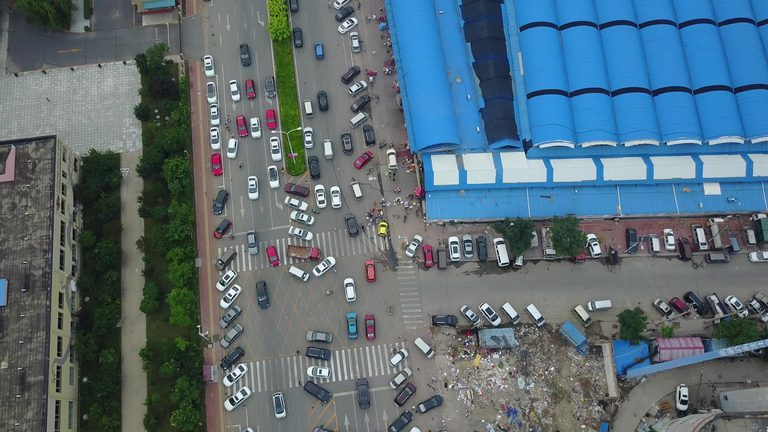bicycle: (325, 290, 334, 295), (371, 160, 379, 165), (392, 214, 400, 219), (384, 52, 392, 56), (376, 164, 380, 172), (190, 81, 193, 89), (239, 162, 242, 170), (190, 64, 192, 73)
car: (224, 386, 252, 411), (304, 381, 332, 403), (223, 363, 248, 387), (683, 292, 708, 316), (220, 346, 244, 369), (220, 324, 243, 348), (218, 305, 242, 328), (478, 302, 501, 326), (724, 295, 748, 318), (388, 410, 413, 432), (394, 382, 416, 407), (389, 366, 412, 389), (220, 284, 242, 308), (652, 298, 676, 320), (747, 298, 768, 322), (417, 395, 443, 414), (460, 305, 482, 327), (312, 256, 336, 276), (216, 269, 237, 291), (212, 189, 229, 214), (670, 297, 691, 317), (357, 377, 370, 409), (405, 234, 423, 257), (675, 384, 690, 411), (586, 233, 602, 258), (284, 182, 310, 197), (284, 196, 308, 212), (213, 218, 232, 238), (341, 65, 361, 84), (354, 150, 374, 169), (388, 348, 408, 367), (305, 346, 332, 360), (288, 226, 313, 241), (272, 392, 286, 418), (256, 280, 269, 308), (447, 236, 461, 261), (344, 213, 359, 236), (351, 94, 370, 112), (625, 228, 638, 254), (340, 130, 354, 154), (290, 211, 314, 225), (306, 331, 333, 343), (346, 312, 358, 339), (431, 314, 458, 326), (338, 17, 358, 33), (348, 80, 368, 96), (362, 124, 376, 146), (306, 366, 331, 378), (476, 236, 488, 261), (307, 156, 320, 179), (266, 246, 280, 267), (246, 230, 258, 254), (344, 278, 356, 302), (314, 184, 326, 208), (270, 137, 282, 161), (335, 6, 354, 21), (350, 32, 364, 52), (240, 43, 252, 66), (365, 314, 376, 339), (754, 292, 768, 311), (247, 176, 258, 200), (229, 80, 241, 102), (330, 186, 342, 208), (268, 166, 280, 188), (236, 115, 248, 137), (662, 228, 674, 250), (462, 234, 473, 258), (210, 127, 221, 150), (705, 253, 730, 263), (365, 260, 376, 282), (386, 149, 398, 169), (748, 250, 768, 262), (206, 82, 217, 103), (303, 127, 314, 148), (250, 117, 261, 138), (265, 76, 276, 97), (212, 153, 222, 176), (423, 244, 433, 267), (226, 139, 238, 158), (210, 104, 220, 126), (204, 55, 214, 77), (317, 90, 328, 110), (245, 79, 256, 99), (266, 110, 277, 129), (293, 27, 302, 47), (314, 42, 324, 59), (334, 0, 350, 10), (378, 222, 388, 236), (289, 0, 299, 11), (381, 203, 385, 207)
motor: (379, 142, 387, 148), (366, 168, 374, 174), (311, 208, 320, 213), (378, 138, 385, 144), (379, 197, 385, 204), (225, 124, 230, 132), (388, 306, 392, 316), (375, 95, 379, 104), (392, 188, 401, 192), (360, 223, 364, 232), (225, 116, 230, 123), (380, 34, 387, 39), (403, 214, 407, 222), (230, 230, 233, 239), (358, 4, 360, 10)
pedestrian: (225, 124, 230, 130), (372, 50, 376, 57), (230, 133, 234, 140), (373, 14, 376, 22), (296, 350, 300, 356), (748, 216, 752, 222), (392, 172, 396, 178), (373, 201, 377, 207), (334, 268, 338, 274), (328, 4, 331, 11), (328, 0, 331, 7), (305, 180, 309, 185), (396, 345, 401, 349), (388, 169, 392, 174), (372, 208, 375, 214), (366, 16, 368, 24), (426, 313, 430, 317), (525, 269, 529, 273), (386, 122, 390, 126), (298, 381, 301, 386), (398, 335, 401, 340), (412, 405, 415, 410), (389, 175, 392, 180), (392, 178, 395, 183), (368, 222, 371, 227), (366, 216, 369, 221), (368, 16, 370, 23), (420, 316, 423, 320), (415, 410, 418, 414), (479, 273, 482, 277), (483, 271, 487, 274), (410, 205, 412, 210), (370, 218, 372, 223), (518, 272, 521, 275), (404, 339, 406, 342)
people: (369, 166, 374, 172), (380, 197, 385, 203), (229, 232, 233, 238), (226, 115, 230, 121), (395, 188, 399, 194), (326, 290, 332, 294), (358, 1, 361, 8), (313, 208, 318, 212), (238, 162, 242, 167), (379, 210, 383, 215), (389, 308, 392, 313)
tricycle: (609, 244, 618, 262)
truck: (704, 292, 733, 328), (708, 218, 732, 248), (286, 244, 321, 260), (752, 213, 768, 246), (571, 230, 586, 264), (541, 226, 556, 260), (528, 229, 538, 249)
van: (493, 237, 510, 266), (216, 247, 237, 270), (571, 304, 592, 327), (500, 302, 521, 324), (524, 304, 545, 326), (690, 224, 708, 249), (414, 337, 434, 358), (288, 266, 310, 282), (726, 231, 740, 254), (678, 238, 692, 261), (349, 112, 369, 128), (742, 226, 756, 246), (587, 300, 612, 310), (350, 181, 363, 200), (436, 248, 447, 270), (648, 234, 660, 254), (512, 248, 524, 268), (322, 139, 333, 160), (303, 100, 314, 118)
